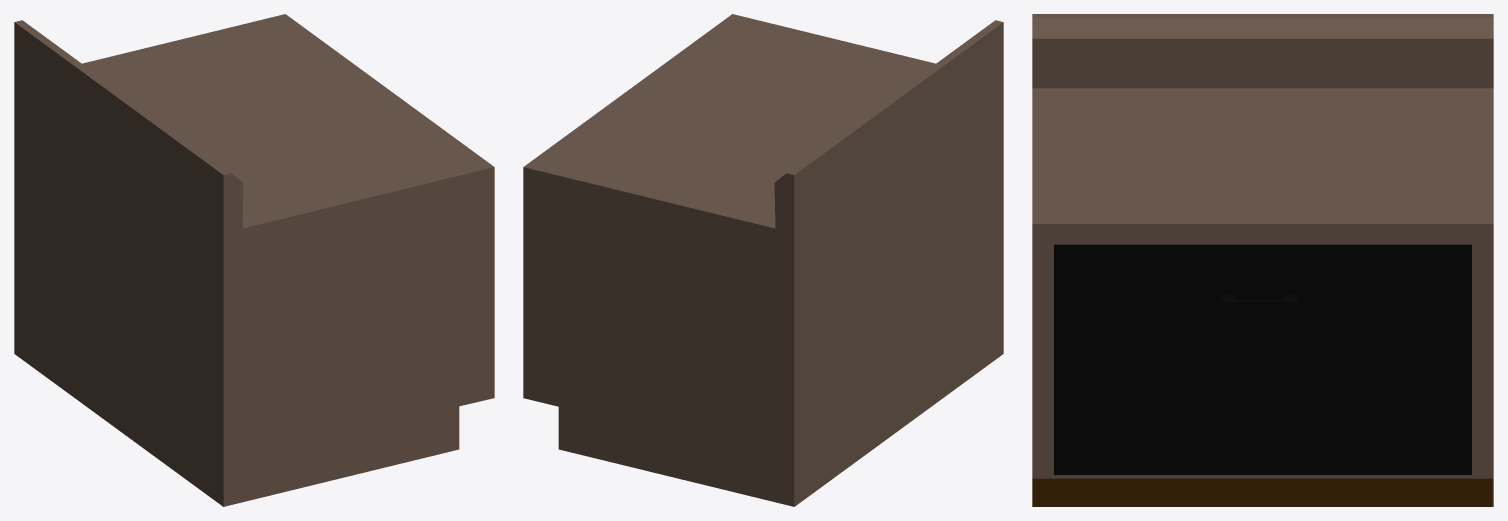
File: Kitchen cooker.fbx
3 renders of one model, left to right at view 1: azimuth 30°, elevation 25°; view 2: azimuth 150°, elevation 25°; view 3: azimuth 270°, elevation 25°, orthographic. The views are drawn at different scales.
Parts seen in each view (by area): view 1: cooker; view 2: cooker; view 3: cooker, Cooker door.
Boxes of the visible parts, x1,y1,x2,y2 form: cooker: (14, 14, 494, 506); cooker: (523, 14, 1003, 506); cooker: (1032, 14, 1493, 506); Cooker door: (1054, 244, 1471, 474).
Bounding box in the file's own units: 81.45 × 90.8 × 104.
